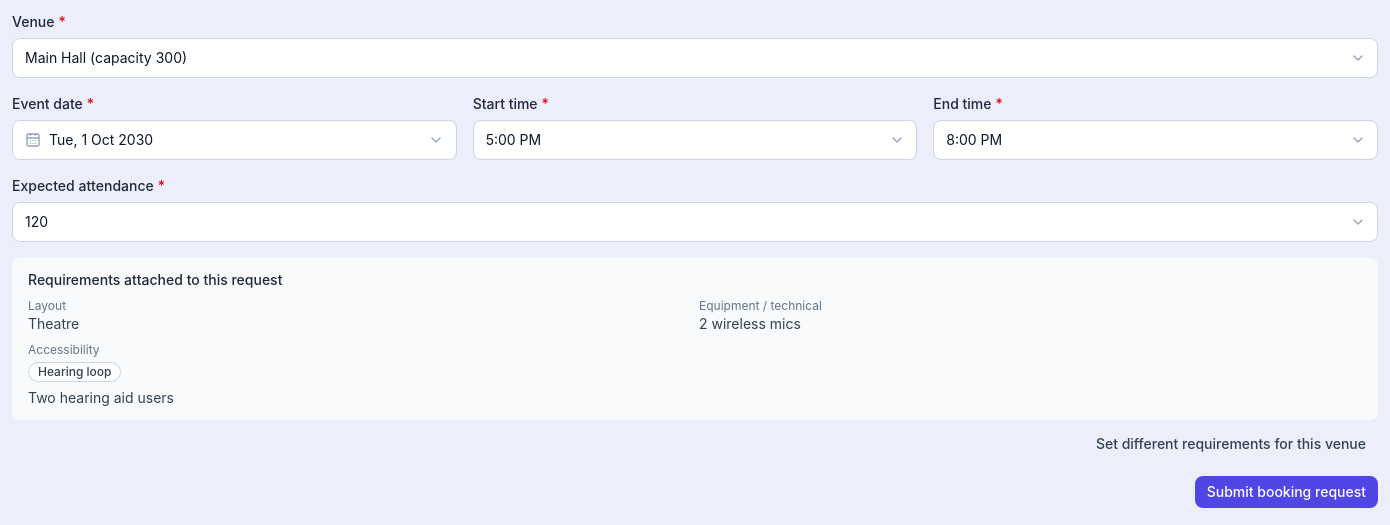
Test: US-20 AC-4, AC-5, AC-6: what happens on submit › confirms the request, warns about the overlapping pending one, and links to my requests
Click the button "Submit booking request" at (1286, 492), box [1195, 476, 1378, 508]
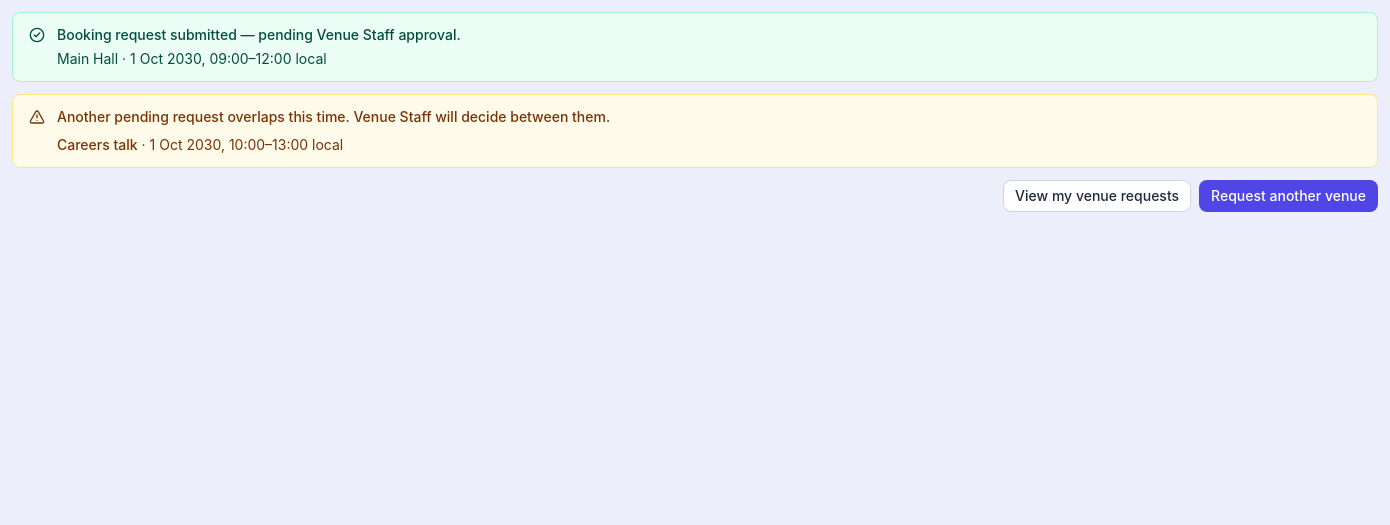
Expected: the text "Booking request submitted — pending Venue Staff approval." is shown, [57, 25, 461, 45]
Expected: the 2nd message shows "Another pending request overlaps this time", [57, 108, 610, 125]
Expected: the 2nd message shows "Careers talk", [57, 136, 138, 153]
